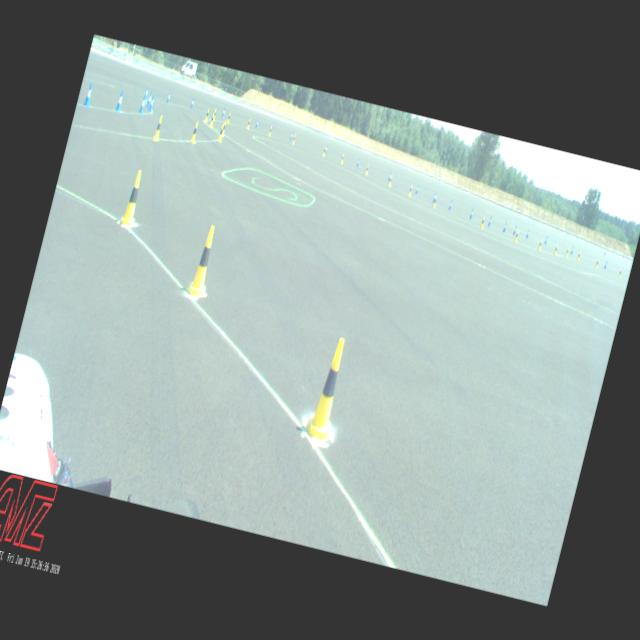blue_cone: (83, 82, 94, 106), (114, 90, 124, 112), (138, 94, 146, 112), (148, 95, 155, 112), (146, 91, 153, 107), (143, 86, 149, 100), (166, 91, 172, 102), (468, 208, 474, 218), (512, 225, 517, 235), (487, 216, 491, 227), (432, 192, 436, 203), (448, 200, 452, 210), (502, 222, 506, 232), (190, 98, 194, 108), (525, 228, 529, 238), (324, 144, 328, 154), (254, 119, 258, 128), (603, 260, 607, 269), (356, 158, 360, 167), (289, 132, 293, 141), (544, 234, 548, 243), (415, 185, 419, 194), (388, 172, 392, 181), (222, 108, 226, 116), (570, 246, 574, 254)
yellow_cone: (300, 334, 352, 442), (184, 223, 223, 300), (118, 169, 146, 227), (152, 114, 164, 140), (190, 121, 200, 143), (217, 124, 225, 142), (203, 108, 210, 122), (221, 120, 227, 136), (209, 112, 215, 126), (479, 216, 485, 228), (246, 118, 252, 130), (513, 230, 519, 242), (387, 175, 393, 186), (553, 244, 558, 255), (432, 196, 437, 207), (537, 240, 542, 250), (564, 246, 569, 256), (594, 258, 599, 268), (408, 185, 412, 196), (227, 112, 231, 123), (212, 109, 216, 120), (364, 165, 368, 175), (340, 154, 344, 164), (268, 125, 272, 135), (322, 146, 326, 156), (292, 134, 296, 144), (618, 268, 622, 277), (576, 251, 580, 260)
